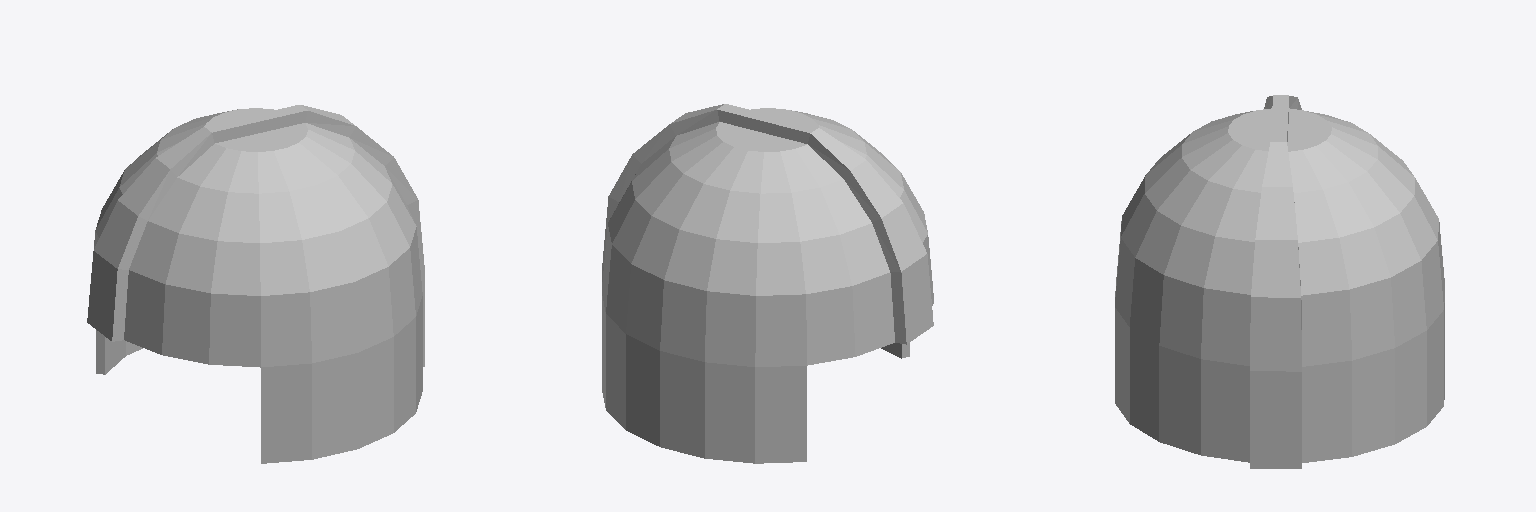
File: helm.obj
The picture shows the model from 3 angles: view 1: azimuth 30°, elevation 25°; view 2: azimuth 150°, elevation 25°; view 3: azimuth 270°, elevation 25°; orthographic projection.
Parts seen in each view (by area): view 1: pSphere1 group3; view 2: pSphere1 group3; view 3: pSphere1 group3.
Part boxes in pixels (x1,y1,x2,y2): pSphere1 group3: (87, 105, 424, 463); pSphere1 group3: (602, 104, 933, 463); pSphere1 group3: (1115, 95, 1444, 468).
Size of the model in its own units: 0.4216 by 0.3576 by 0.3899.